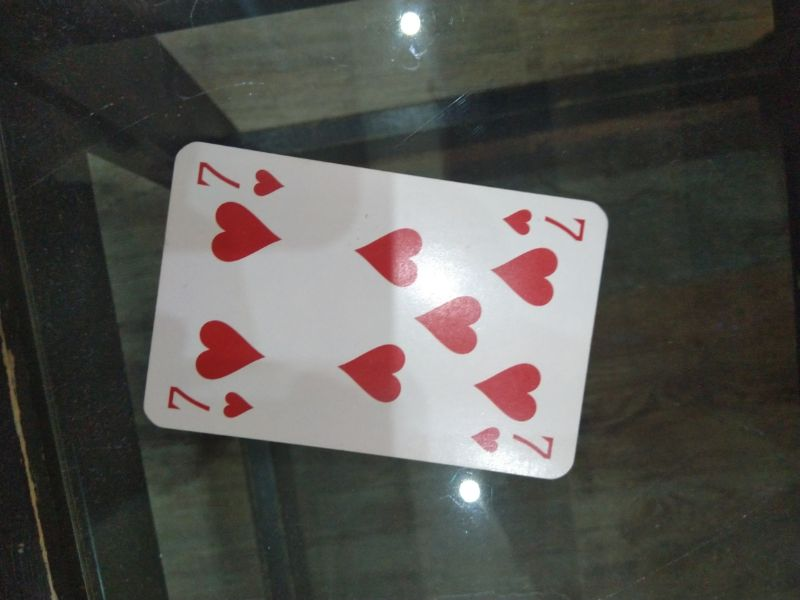7h: (498, 200, 590, 245), (162, 379, 258, 421), (193, 157, 288, 198), (469, 421, 559, 463)
